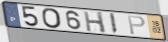5: (21, 5, 40, 28)
6: (65, 10, 83, 31)
H: (82, 11, 107, 35)
I: (108, 13, 119, 35)
O: (41, 8, 64, 30)
P: (127, 15, 147, 36)
